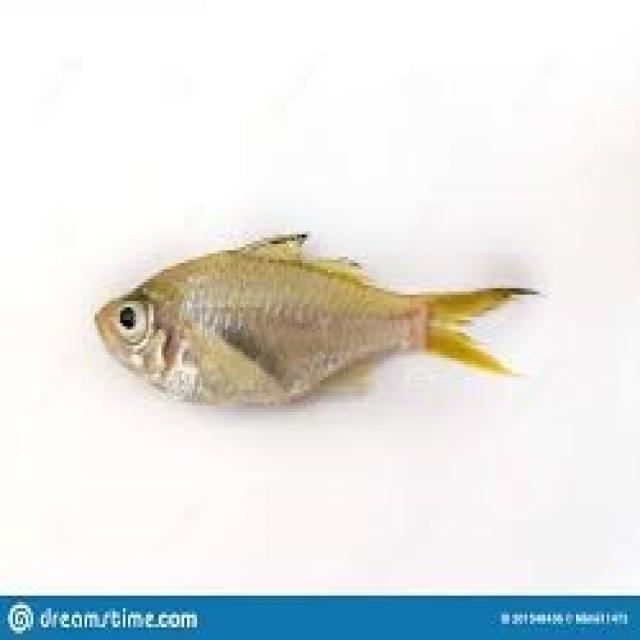Glass-Perchlet: (63, 134, 543, 488)
